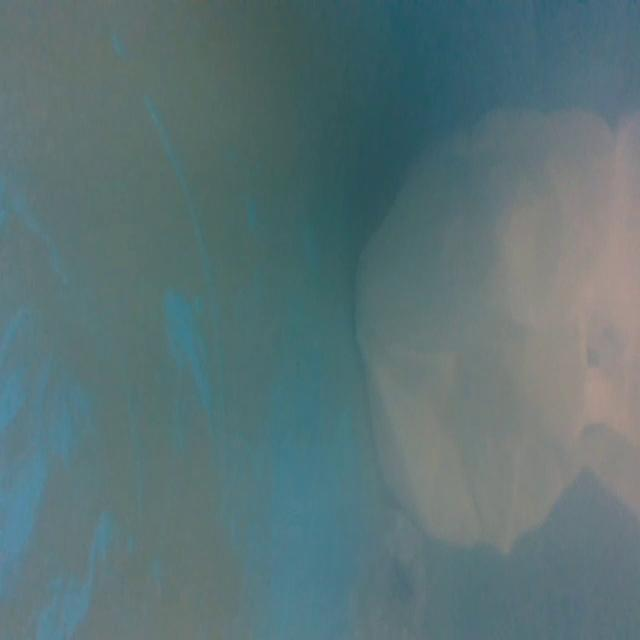plastic bags: (349, 107, 640, 561)
